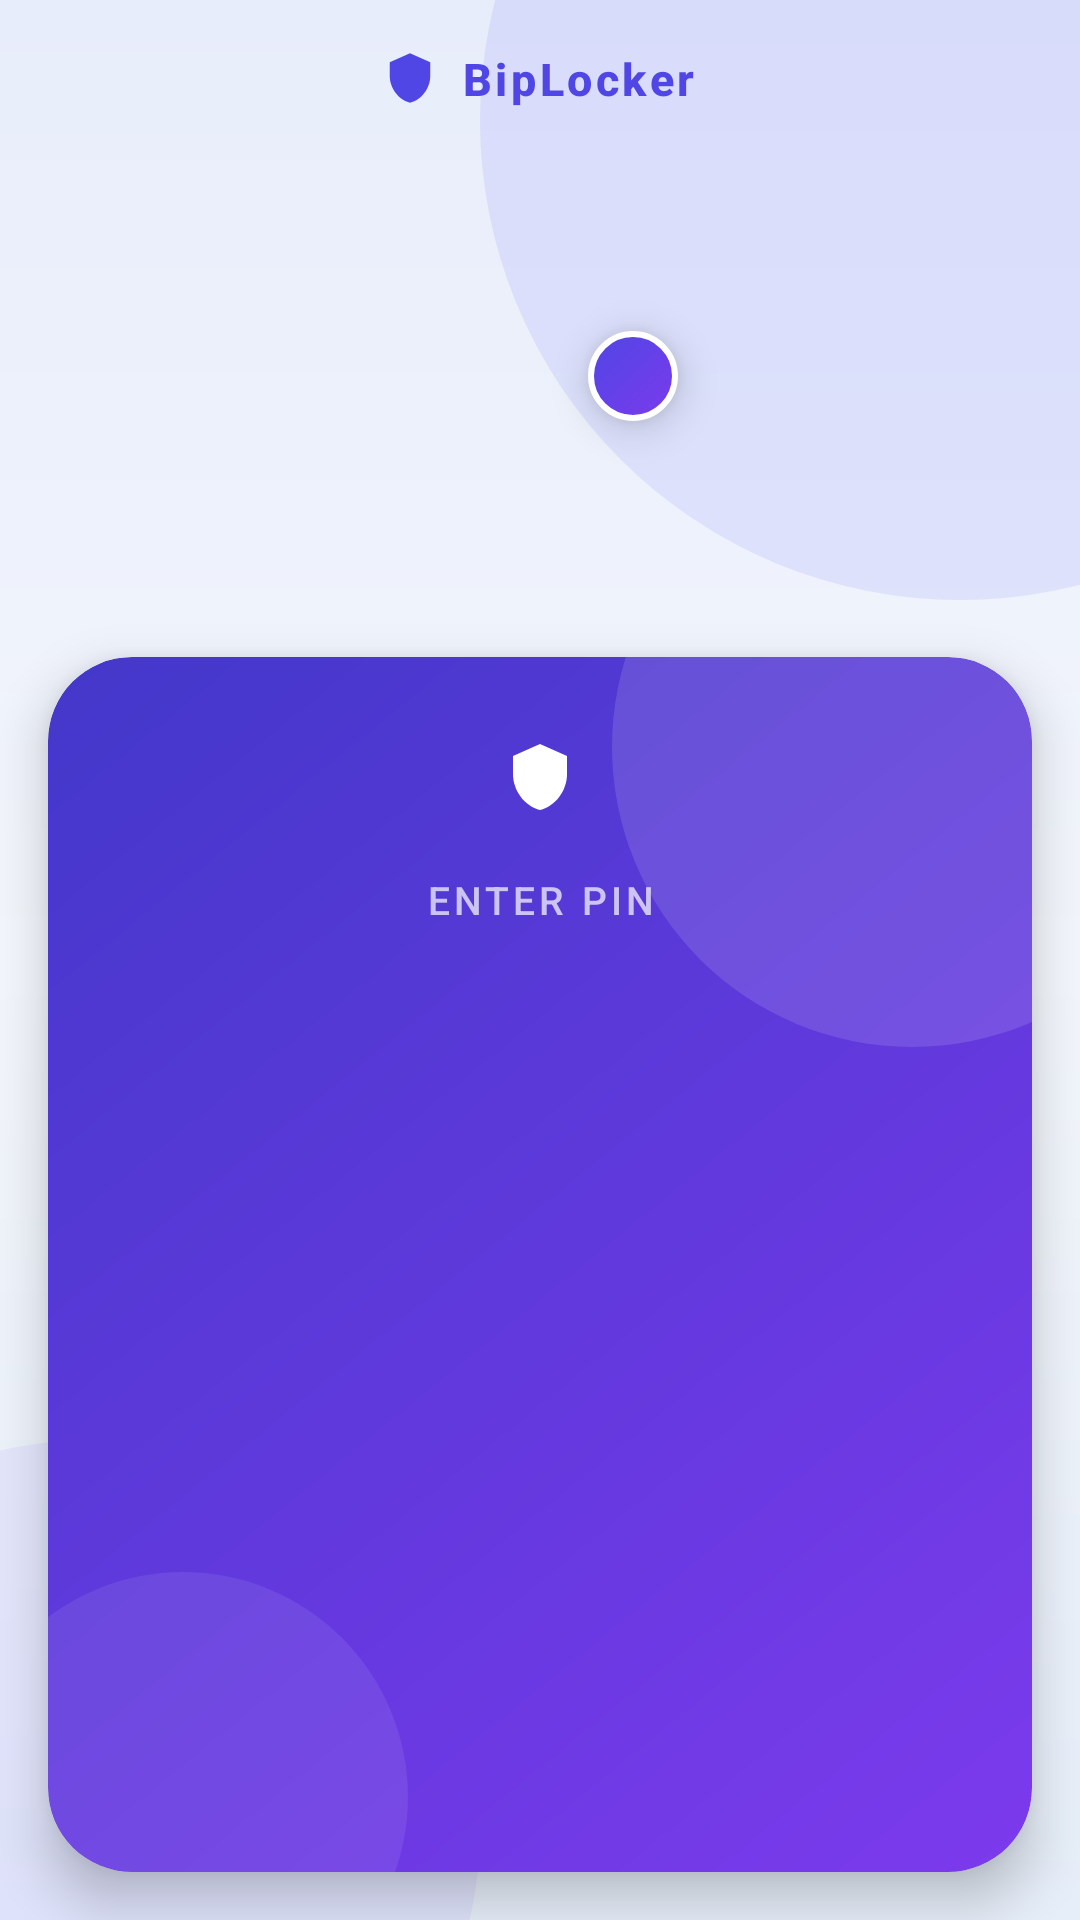

Point at icon controls on the screen. Image size 1080×1920, points as [x,y].
shield: [410,78], [540,777]
